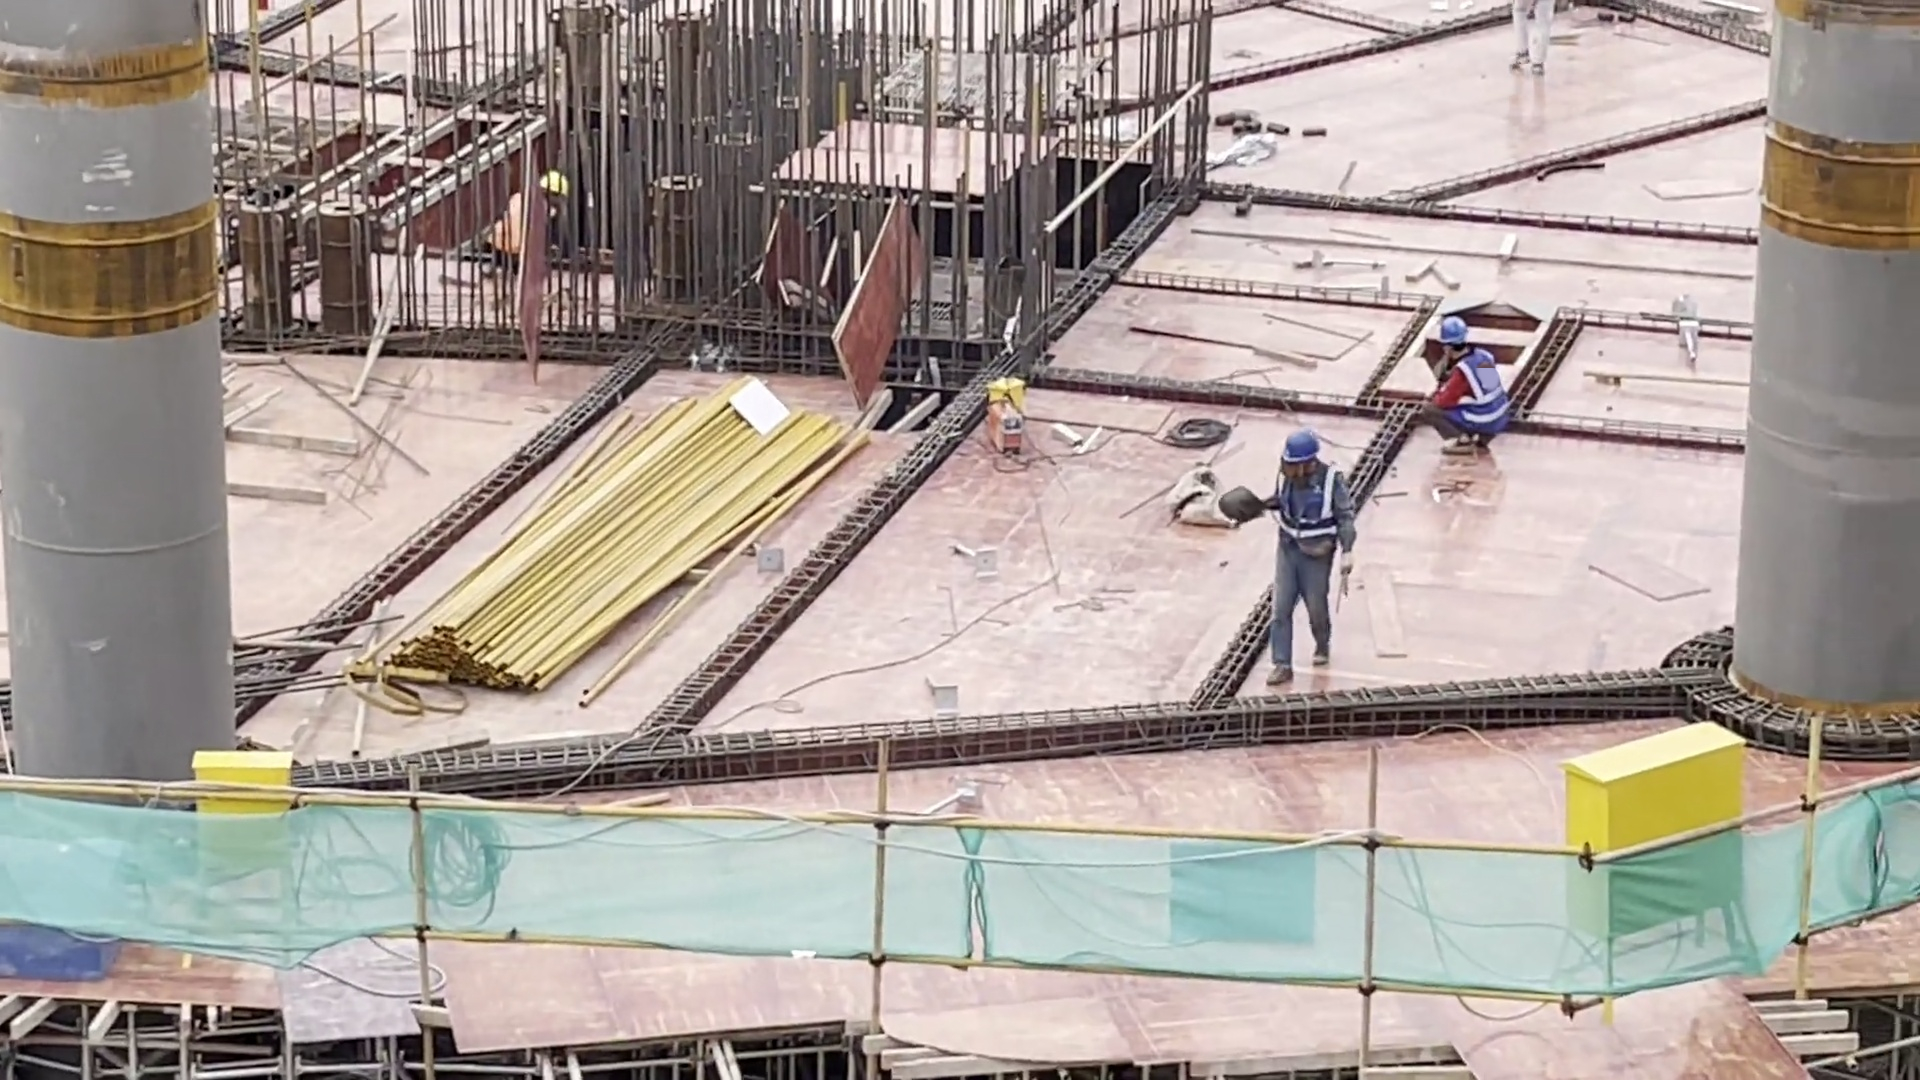ebox: (1566, 716, 1758, 1021), (189, 750, 297, 952)
helmet: (1281, 429, 1320, 464), (1435, 317, 1470, 344)
person: (1269, 428, 1355, 696), (1413, 317, 1511, 448), (488, 166, 568, 263), (1511, 1, 1555, 81)
vest: (1279, 463, 1341, 554), (1448, 346, 1509, 433)
